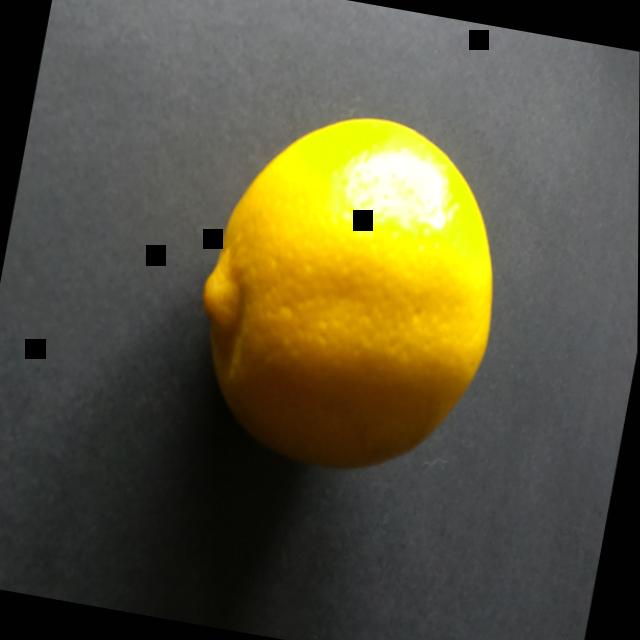Lemon: (145, 59, 551, 531)
